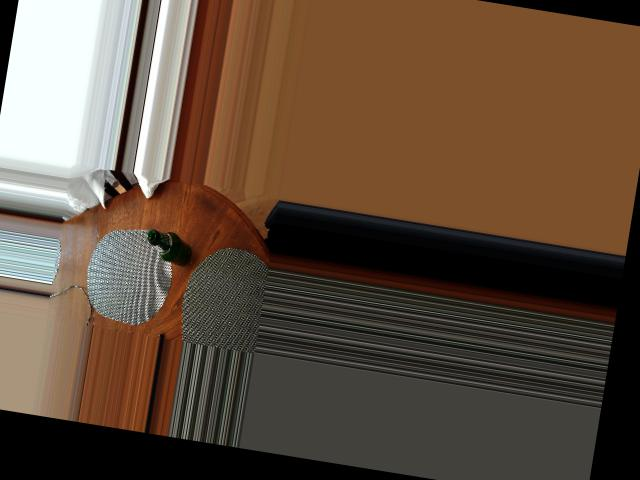beer: (144, 228, 195, 266)
